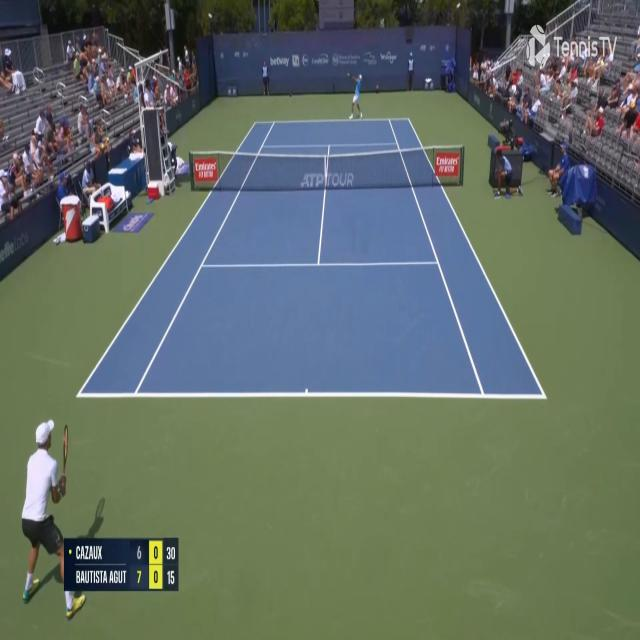tennis-player: (16, 413, 88, 631), (347, 70, 365, 122)
